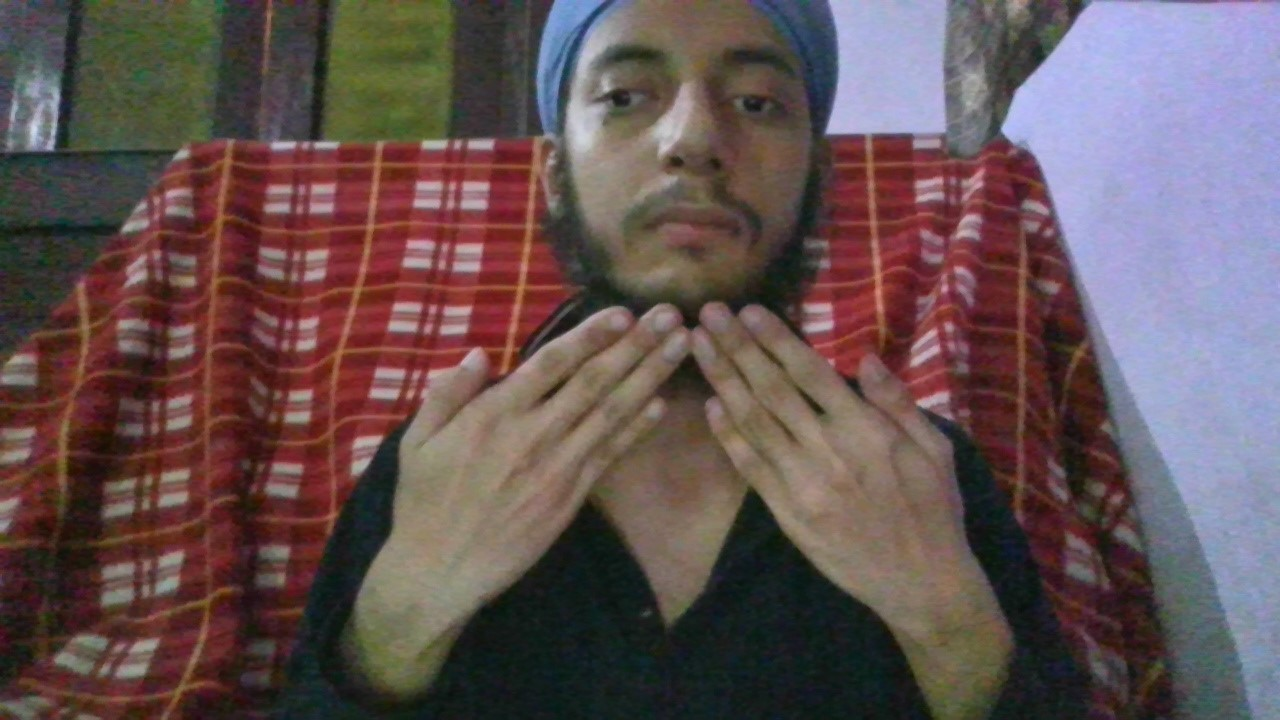Thank You: (387, 296, 967, 563)
